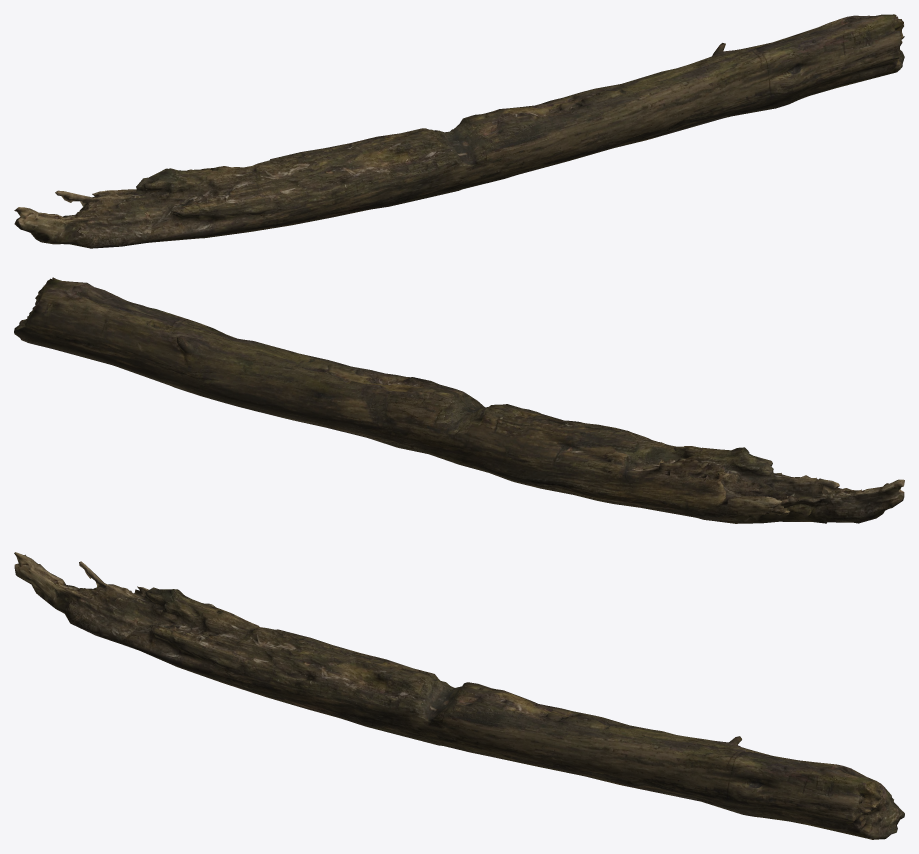
File: log-0-near.glb
The picture shows the model from 3 angles, top to bottom: view 1: azimuth 30°, elevation 25°; view 2: azimuth 150°, elevation 25°; view 3: azimuth 330°, elevation 25°; orthographic projection.
Visible parts, largest first — view 1: dead_tree_trunk; view 2: dead_tree_trunk; view 3: dead_tree_trunk.
Part boxes in pixels (left/top/right/bottom): dead_tree_trunk: left=14, top=14, right=904, bottom=248; dead_tree_trunk: left=14, top=277, right=904, bottom=523; dead_tree_trunk: left=14, top=552, right=904, bottom=839.
Bounding box in the file's own units: 3.05 × 0.2898 × 0.2766.
Materials: 1 (1 with a texture image).
